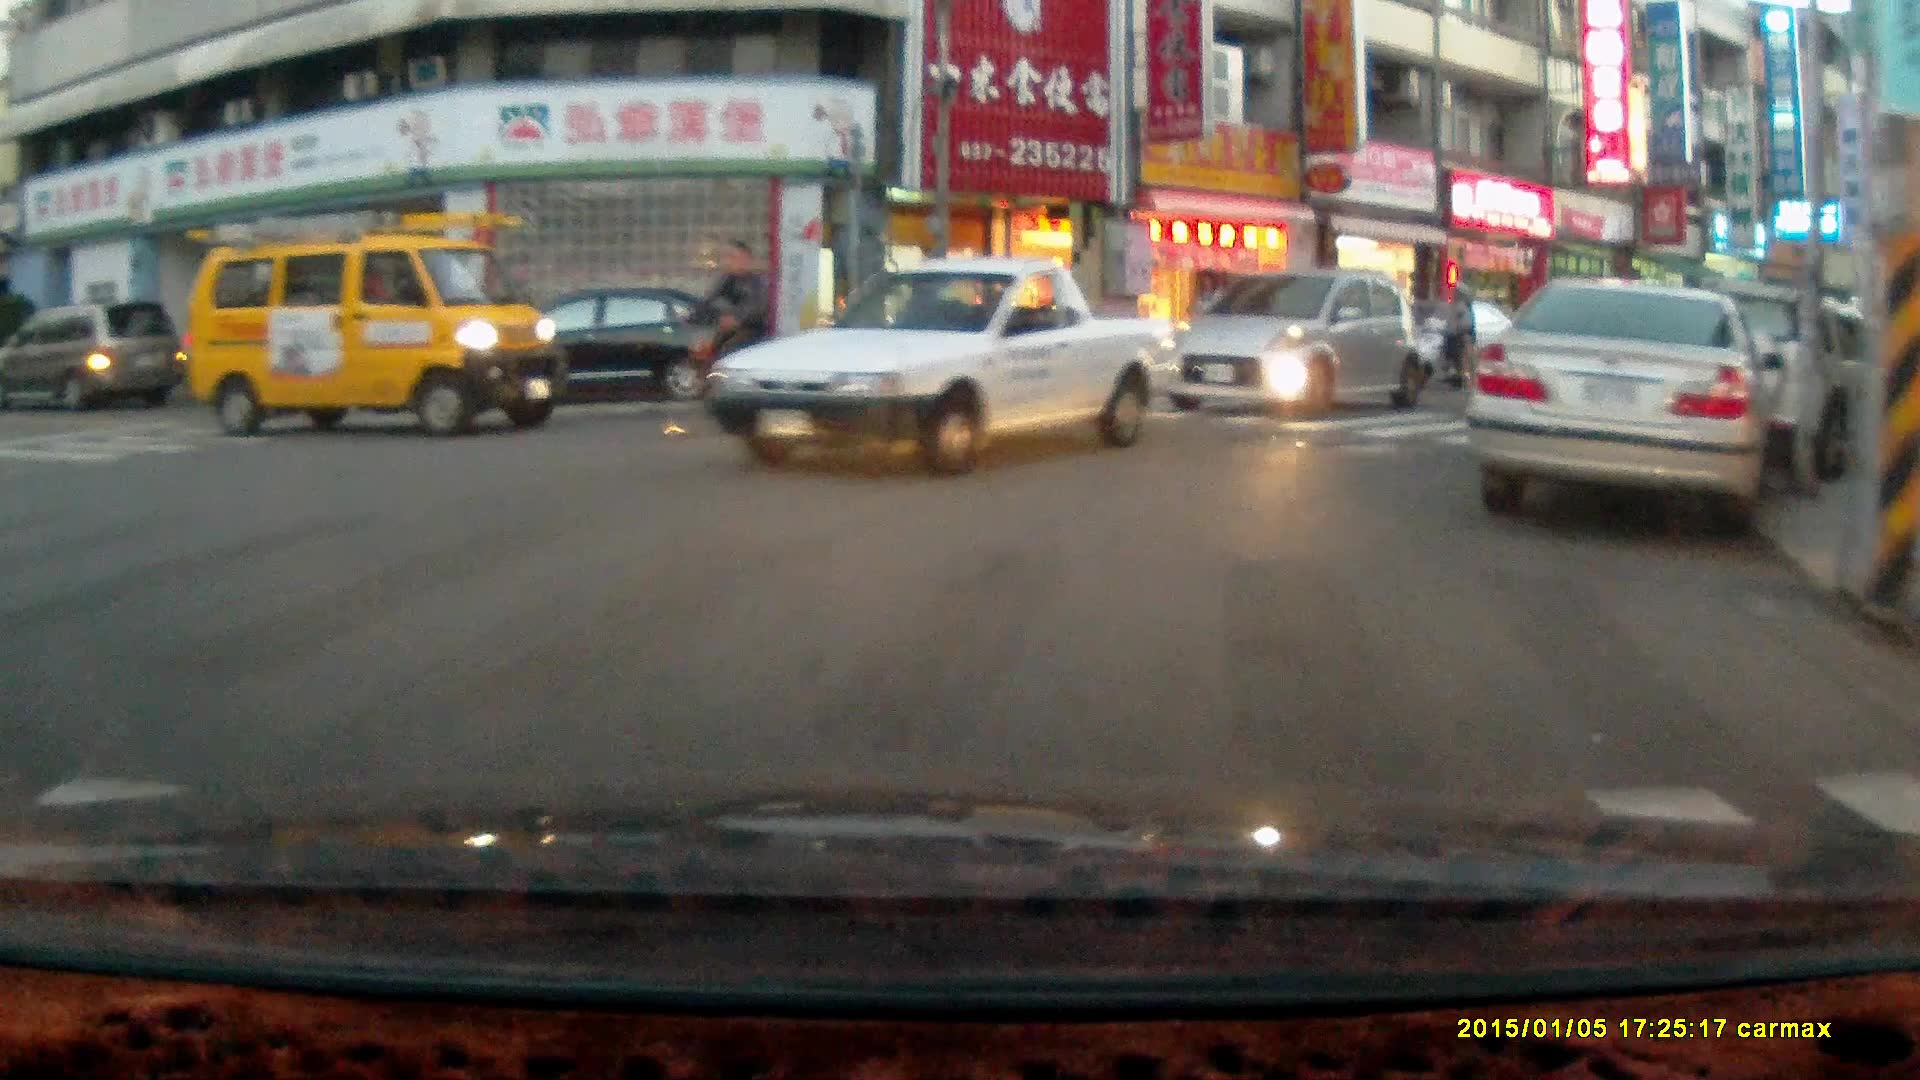rider: (655, 235, 799, 435), (1407, 279, 1478, 394)
vehicle: (709, 258, 1180, 483), (1470, 278, 1793, 548), (182, 215, 562, 440), (1630, 292, 1906, 490), (1162, 272, 1429, 424), (465, 286, 766, 413), (1, 298, 197, 417)
